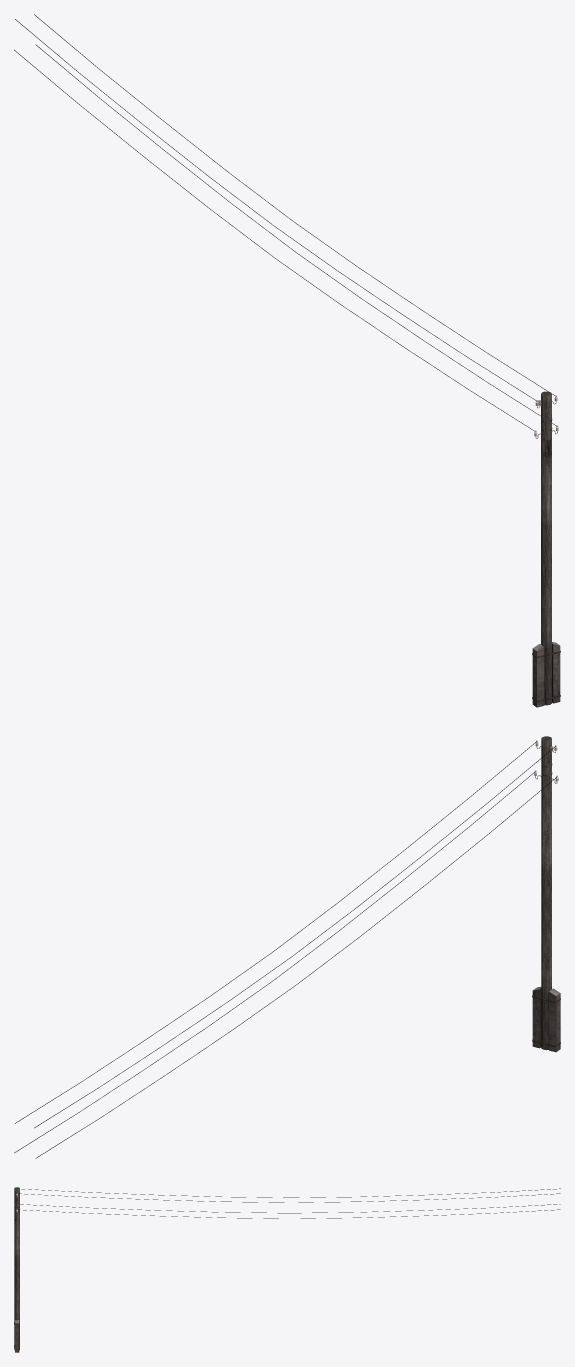
Rendered from Village4.FBX.
The picture shows the model from 3 angles, top to bottom: view 1: azimuth 30°, elevation 25°; view 2: azimuth 150°, elevation 25°; view 3: azimuth 270°, elevation 25°; orthographic projection. The views are drawn at different scales.
Visible parts, largest first — view 1: Village4, cabel; view 2: Village4, cabel; view 3: cabel, Village4.
Boxes of the visible parts, x1=… form: Village4: x1=532, y1=391, x2=560, y2=707; cabel: x1=14, y1=14, x2=556, y2=431; Village4: x1=532, y1=736, x2=560, y2=1052; cabel: x1=14, y1=741, x2=556, y2=1158; cabel: x1=18, y1=1188, x2=560, y2=1218; Village4: x1=14, y1=1187, x2=19, y2=1352.
Size of the model in its own units: 0.6879 by 25.69 by 8.35.
